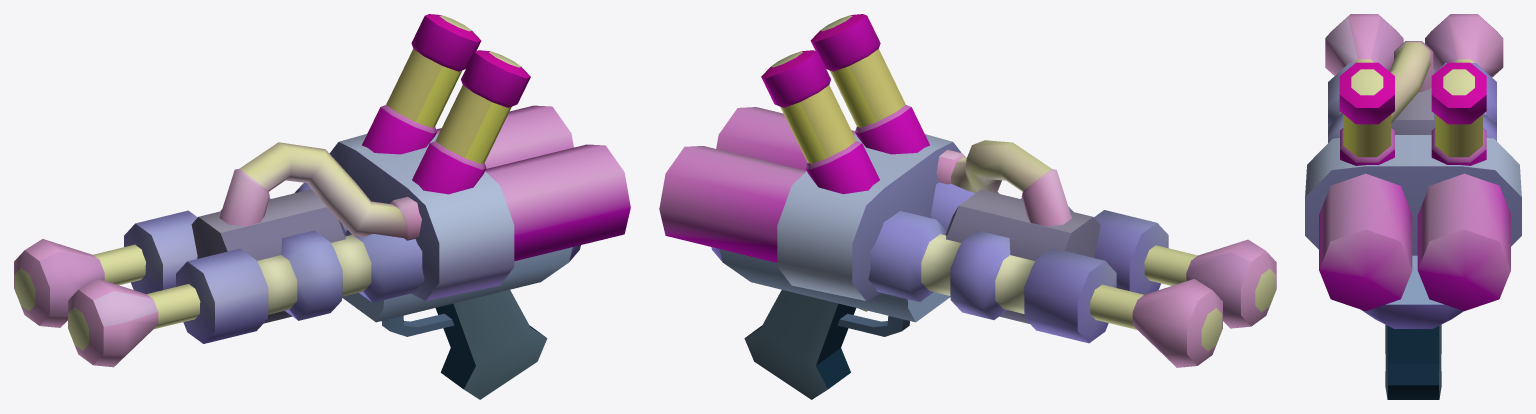
File: gun2.glb
3 renders of one model, left to right at view 1: azimuth 30°, elevation 25°; view 2: azimuth 150°, elevation 25°; view 3: azimuth 270°, elevation 25°, orthographic. The views are drawn at different scales.
Parts seen in each view (by area): view 1: gun2; view 2: gun2; view 3: gun2.
Part boxes in pixels (x1,y1,x2,y2): gun2: (14,14,630,399); gun2: (659,14,1276,399); gun2: (1305,14,1521,399).
Bounding box in the file's own units: 1.14 × 0.7112 × 0.4222.
